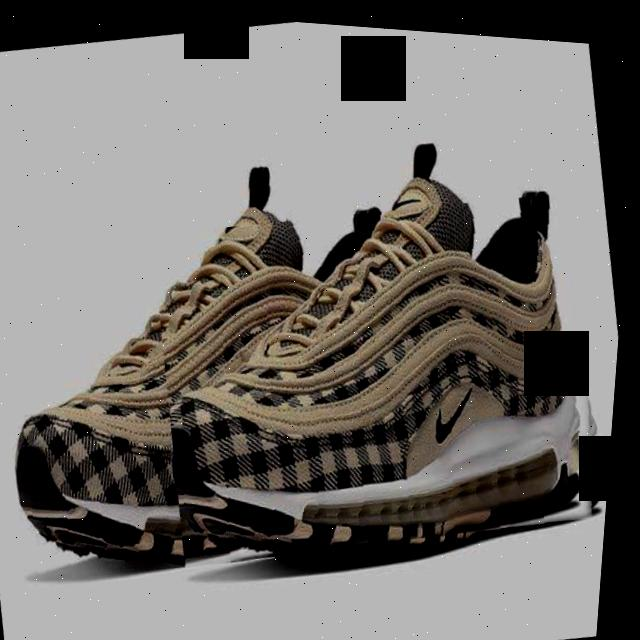shoe: (136, 157, 631, 587), (0, 154, 350, 599)
